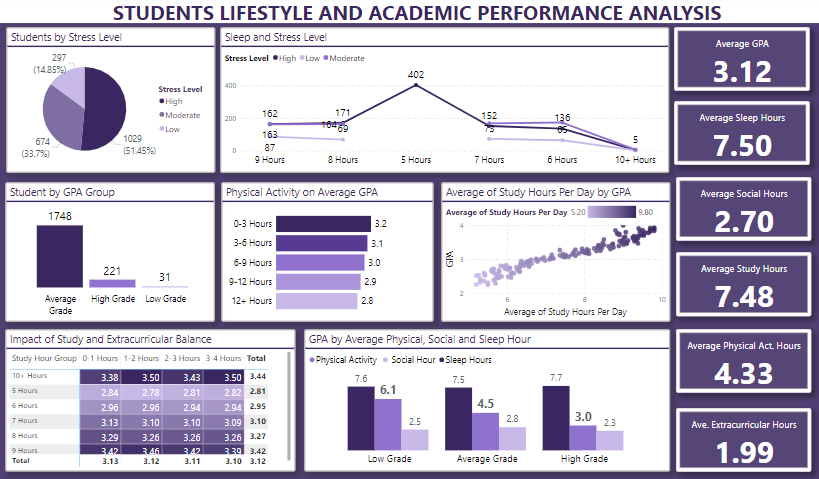

What the dashboard file says about the page in this screenshot:
{"tool":"powerbi","page":{"name":"Page 1","canvas":[1770,1050],"ordinal":0},"visuals":[{"type":"textbox","box":[0,0,1800,57.7],"z":0},{"type":"scatterChart","fields":{"X":["Avg(CLEAN DATA.Study Hours Per Day)"],"Y":["CLEAN DATA.GPA"]},"box":[946.2,398.1,492.3,300],"z":1000},{"type":"pieChart","title":"Students by Stress Level","fields":{"Category":["CLEAN DATA.Stress Level"],"Y":["CountNonNull(CLEAN DATA.Student ID)"]},"box":[14.3,67.1,448.6,312.9],"z":2000},{"type":"pivotTable","title":"Impact of Study and Extracurricular Balance","fields":{"Rows":["CLEAN DATA.Study Hour Group"],"Columns":["CLEAN DATA.Extracurricular Activities Group"],"Values":["Avg(CLEAN DATA.GPA)"]},"box":[13.5,713.5,623.1,305.8],"z":3000},{"type":"clusteredColumnChart","title":"GPA by Average Physical, Social and Sleep Hour ","fields":{"Category":["CLEAN DATA.GPA Group"],"Y":["Avg(CLEAN DATA.Physical Activity Hours Per Day)","Avg(CLEAN DATA.Social Hours Per Day)","Avg(CLEAN DATA.Sleep Hours Per Day)"]},"box":[653.8,713.5,784.6,305.8],"z":4000},{"type":"lineChart","title":"Sleep and Stress Level","fields":{"Y":["CountNonNull(CLEAN DATA.Stress Level)"],"Category":["CLEAN DATA.Sleep Hours Group"],"Series":["CLEAN DATA.Stress Level"]},"box":[474.3,67.1,962.9,312.9],"z":5000},{"type":"barChart","title":"Physical Activity on Average GPA","fields":{"Category":["CLEAN DATA.Physical Activity Group"],"Y":["Avg(CLEAN DATA.GPA)"]},"box":[475,398.1,455.8,300],"z":6000},{"type":"columnChart","title":"Student by GPA Group","fields":{"Category":["CLEAN DATA.GPA Group"],"Y":["CountNonNull(CLEAN DATA.Student ID)"]},"box":[13.5,398.1,450,300],"z":7000},{"type":"cardVisual","fields":{"Data":["Avg(CLEAN DATA.GPA)"]},"box":[1447.1,67.1,291.4,137.1],"z":8000},{"type":"cardVisual","fields":{"Data":["Avg(CLEAN DATA.Sleep Hours Per Day)"]},"box":[1447.1,224.3,291.4,137.1],"z":9000},{"type":"cardVisual","fields":{"Data":["Avg(CLEAN DATA.Social Hours Per Day)"]},"box":[1450,388.5,290.4,136.5],"z":10000},{"type":"cardVisual","fields":{"Data":["Avg(CLEAN DATA.Study Hours Per Day)"]},"box":[1450,548.1,290.4,138.5],"z":11000},{"type":"cardVisual","fields":{"Data":["Avg(CLEAN DATA.Physical Activity Hours Per Day)"]},"box":[1450,713.5,290.4,136.5],"z":12000},{"type":"cardVisual","fields":{"Data":["Avg(CLEAN DATA.Extracurricular Hours Per Day)"]},"box":[1450,882.7,290.4,136.5],"z":13000}]}

Visuals, with their boxes in screenshot pixels (x1, y1, x2, y2), scaled from the page's 1770x1050 canvas onto the 819x479 screenshot:
textbox: [0,0,818,26]
scatterChart - Avg(CLEAN DATA.Study Hours Per Day) x CLEAN DATA.GPA: [438,182,666,318]
"Students by Stress Level" pieChart: [7,31,214,173]
"Impact of Study and Extracurricular Balance" pivotTable: [6,325,295,465]
"GPA by Average Physical, Social and Sleep Hour " clusteredColumnChart: [303,325,666,465]
"Sleep and Stress Level" lineChart: [219,31,665,173]
"Physical Activity on Average GPA" barChart: [220,182,431,318]
"Student by GPA Group" columnChart: [6,182,214,318]
cardVisual - Avg(CLEAN DATA.GPA): [670,31,804,93]
cardVisual - Avg(CLEAN DATA.Sleep Hours Per Day): [670,102,804,165]
cardVisual - Avg(CLEAN DATA.Social Hours Per Day): [671,177,805,240]
cardVisual - Avg(CLEAN DATA.Study Hours Per Day): [671,250,805,313]
cardVisual - Avg(CLEAN DATA.Physical Activity Hours Per Day): [671,325,805,388]
cardVisual - Avg(CLEAN DATA.Extracurricular Hours Per Day): [671,403,805,465]
